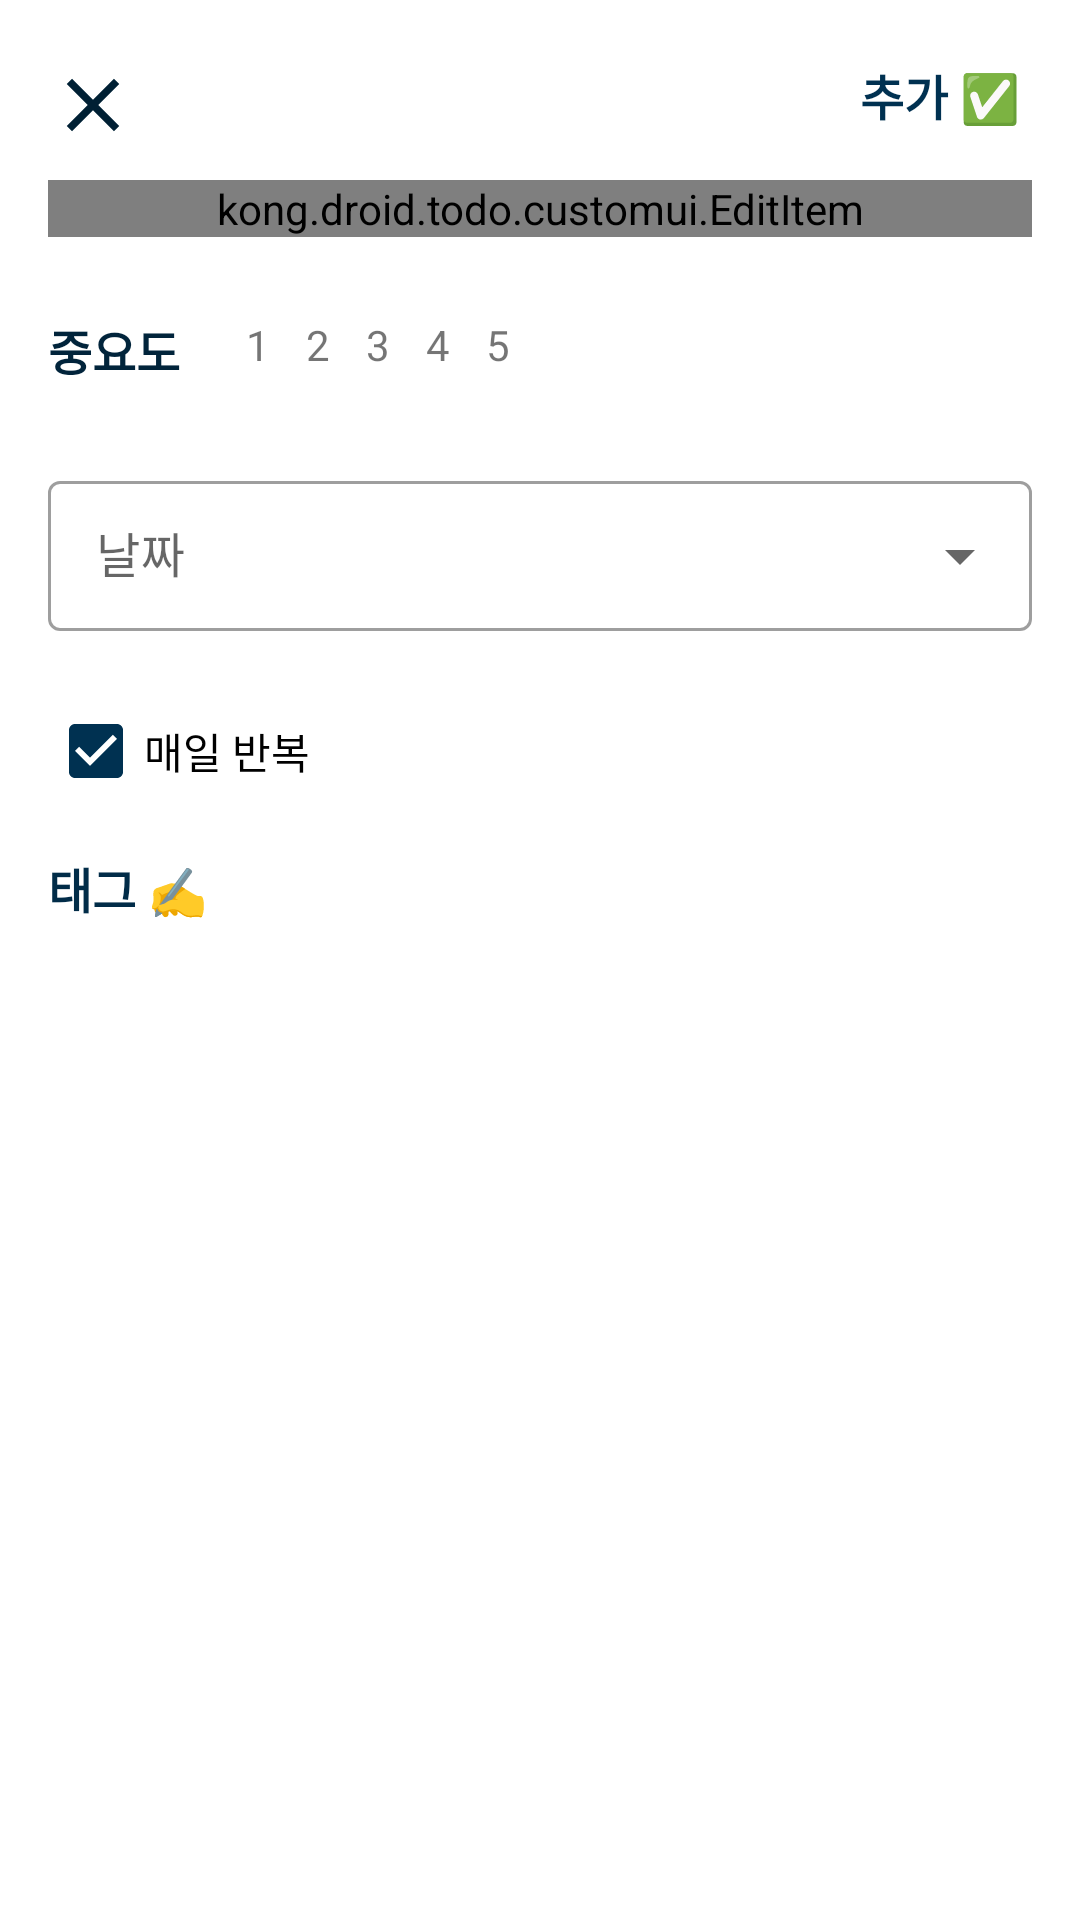

Named icons in this screenshot (1080 x 1920) and their bounding boxes, detection(x1, y1, x2, y2):
close: detection(67, 79, 119, 131)
